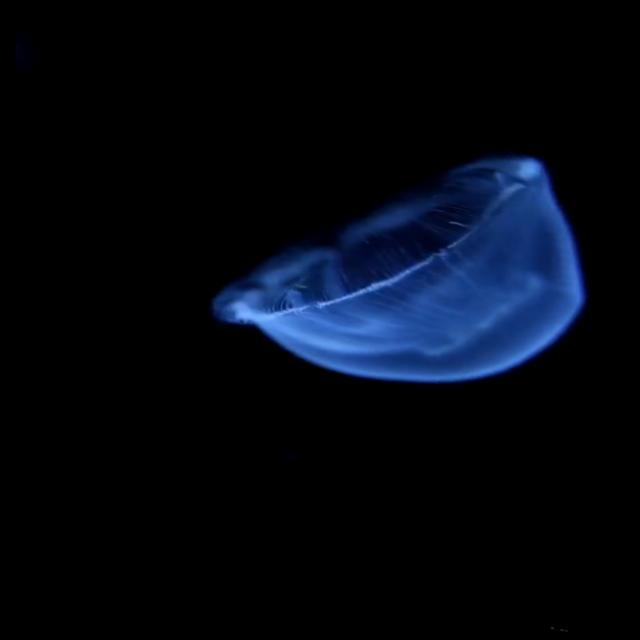Moon-jellyfish: (211, 146, 590, 381)
